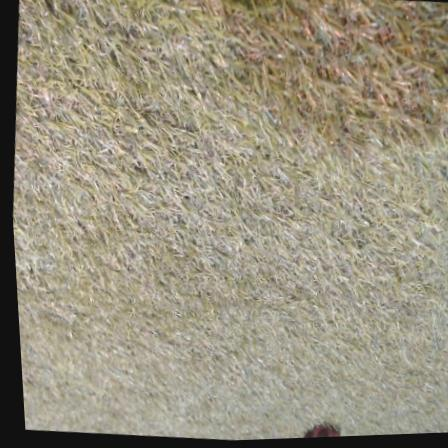dog-poop: (298, 425, 335, 440)
